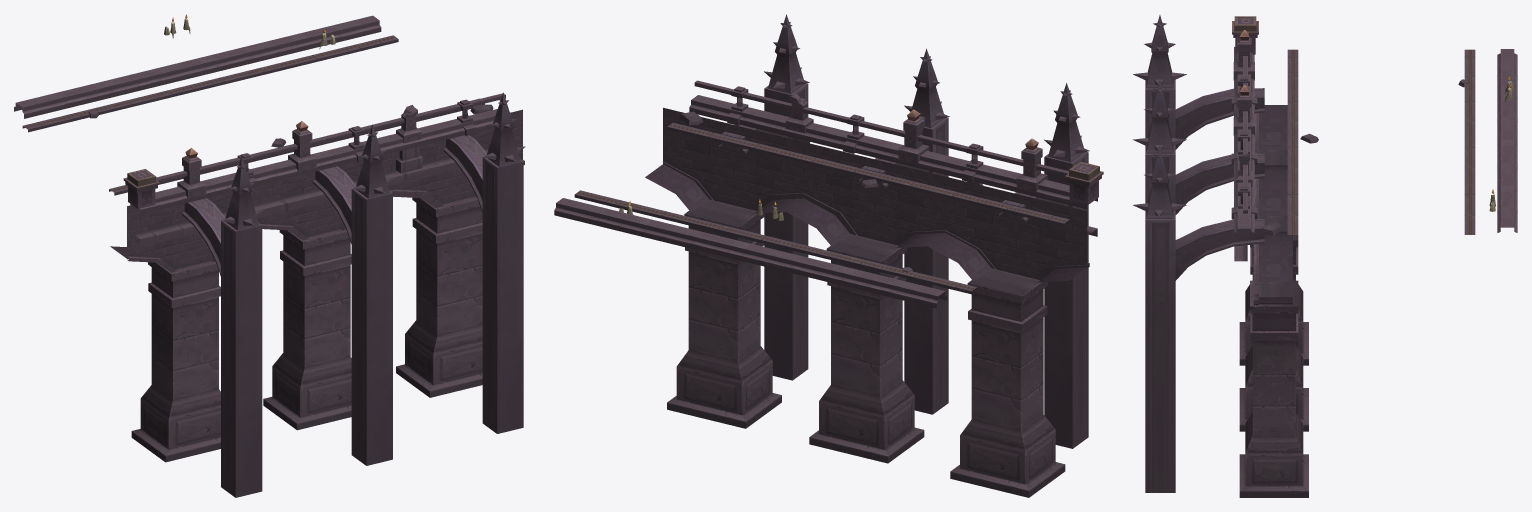
Rendered from SD_xs_zoulang01.FBX.
The picture shows the model from 3 angles, left to right: view 1: azimuth 30°, elevation 25°; view 2: azimuth 150°, elevation 25°; view 3: azimuth 270°, elevation 25°; orthographic projection. The views are drawn at different scales.
Visible parts, largest first — view 1: SD_xs_zoulang01; view 2: SD_xs_zoulang01; view 3: SD_xs_zoulang01.
Part boxes in pixels (<box>): SD_xs_zoulang01: <box>14,14,525,497</box>; SD_xs_zoulang01: <box>554,14,1103,497</box>; SD_xs_zoulang01: <box>1133,15,1517,497</box>.
Size of the model in its own units: 544 by 435 by 444.
Materials: 1 (1 with a texture image).
